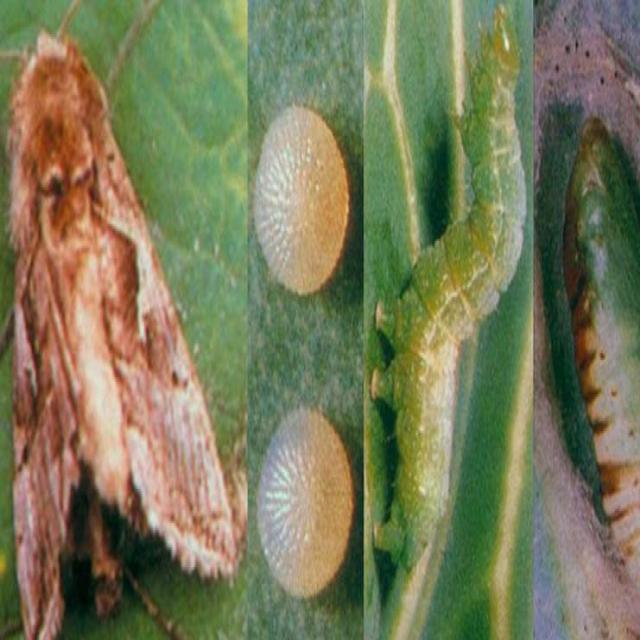armyworm: (4, 28, 240, 634), (378, 8, 536, 588), (558, 123, 640, 587), (257, 393, 355, 607), (260, 103, 347, 308)
